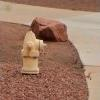a fire hydrant: (20, 30, 46, 74)
